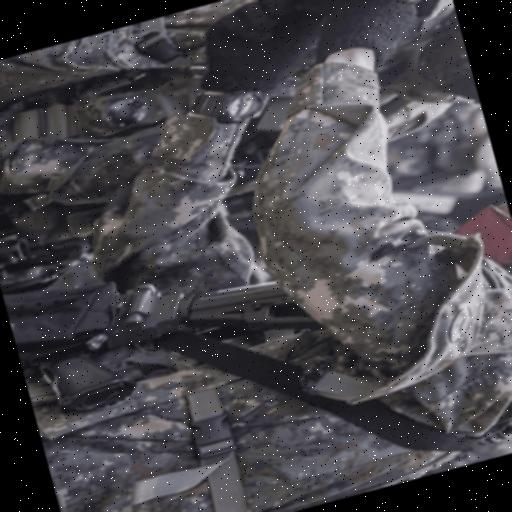korea army: (0, 154, 512, 512), (0, 0, 484, 252)
